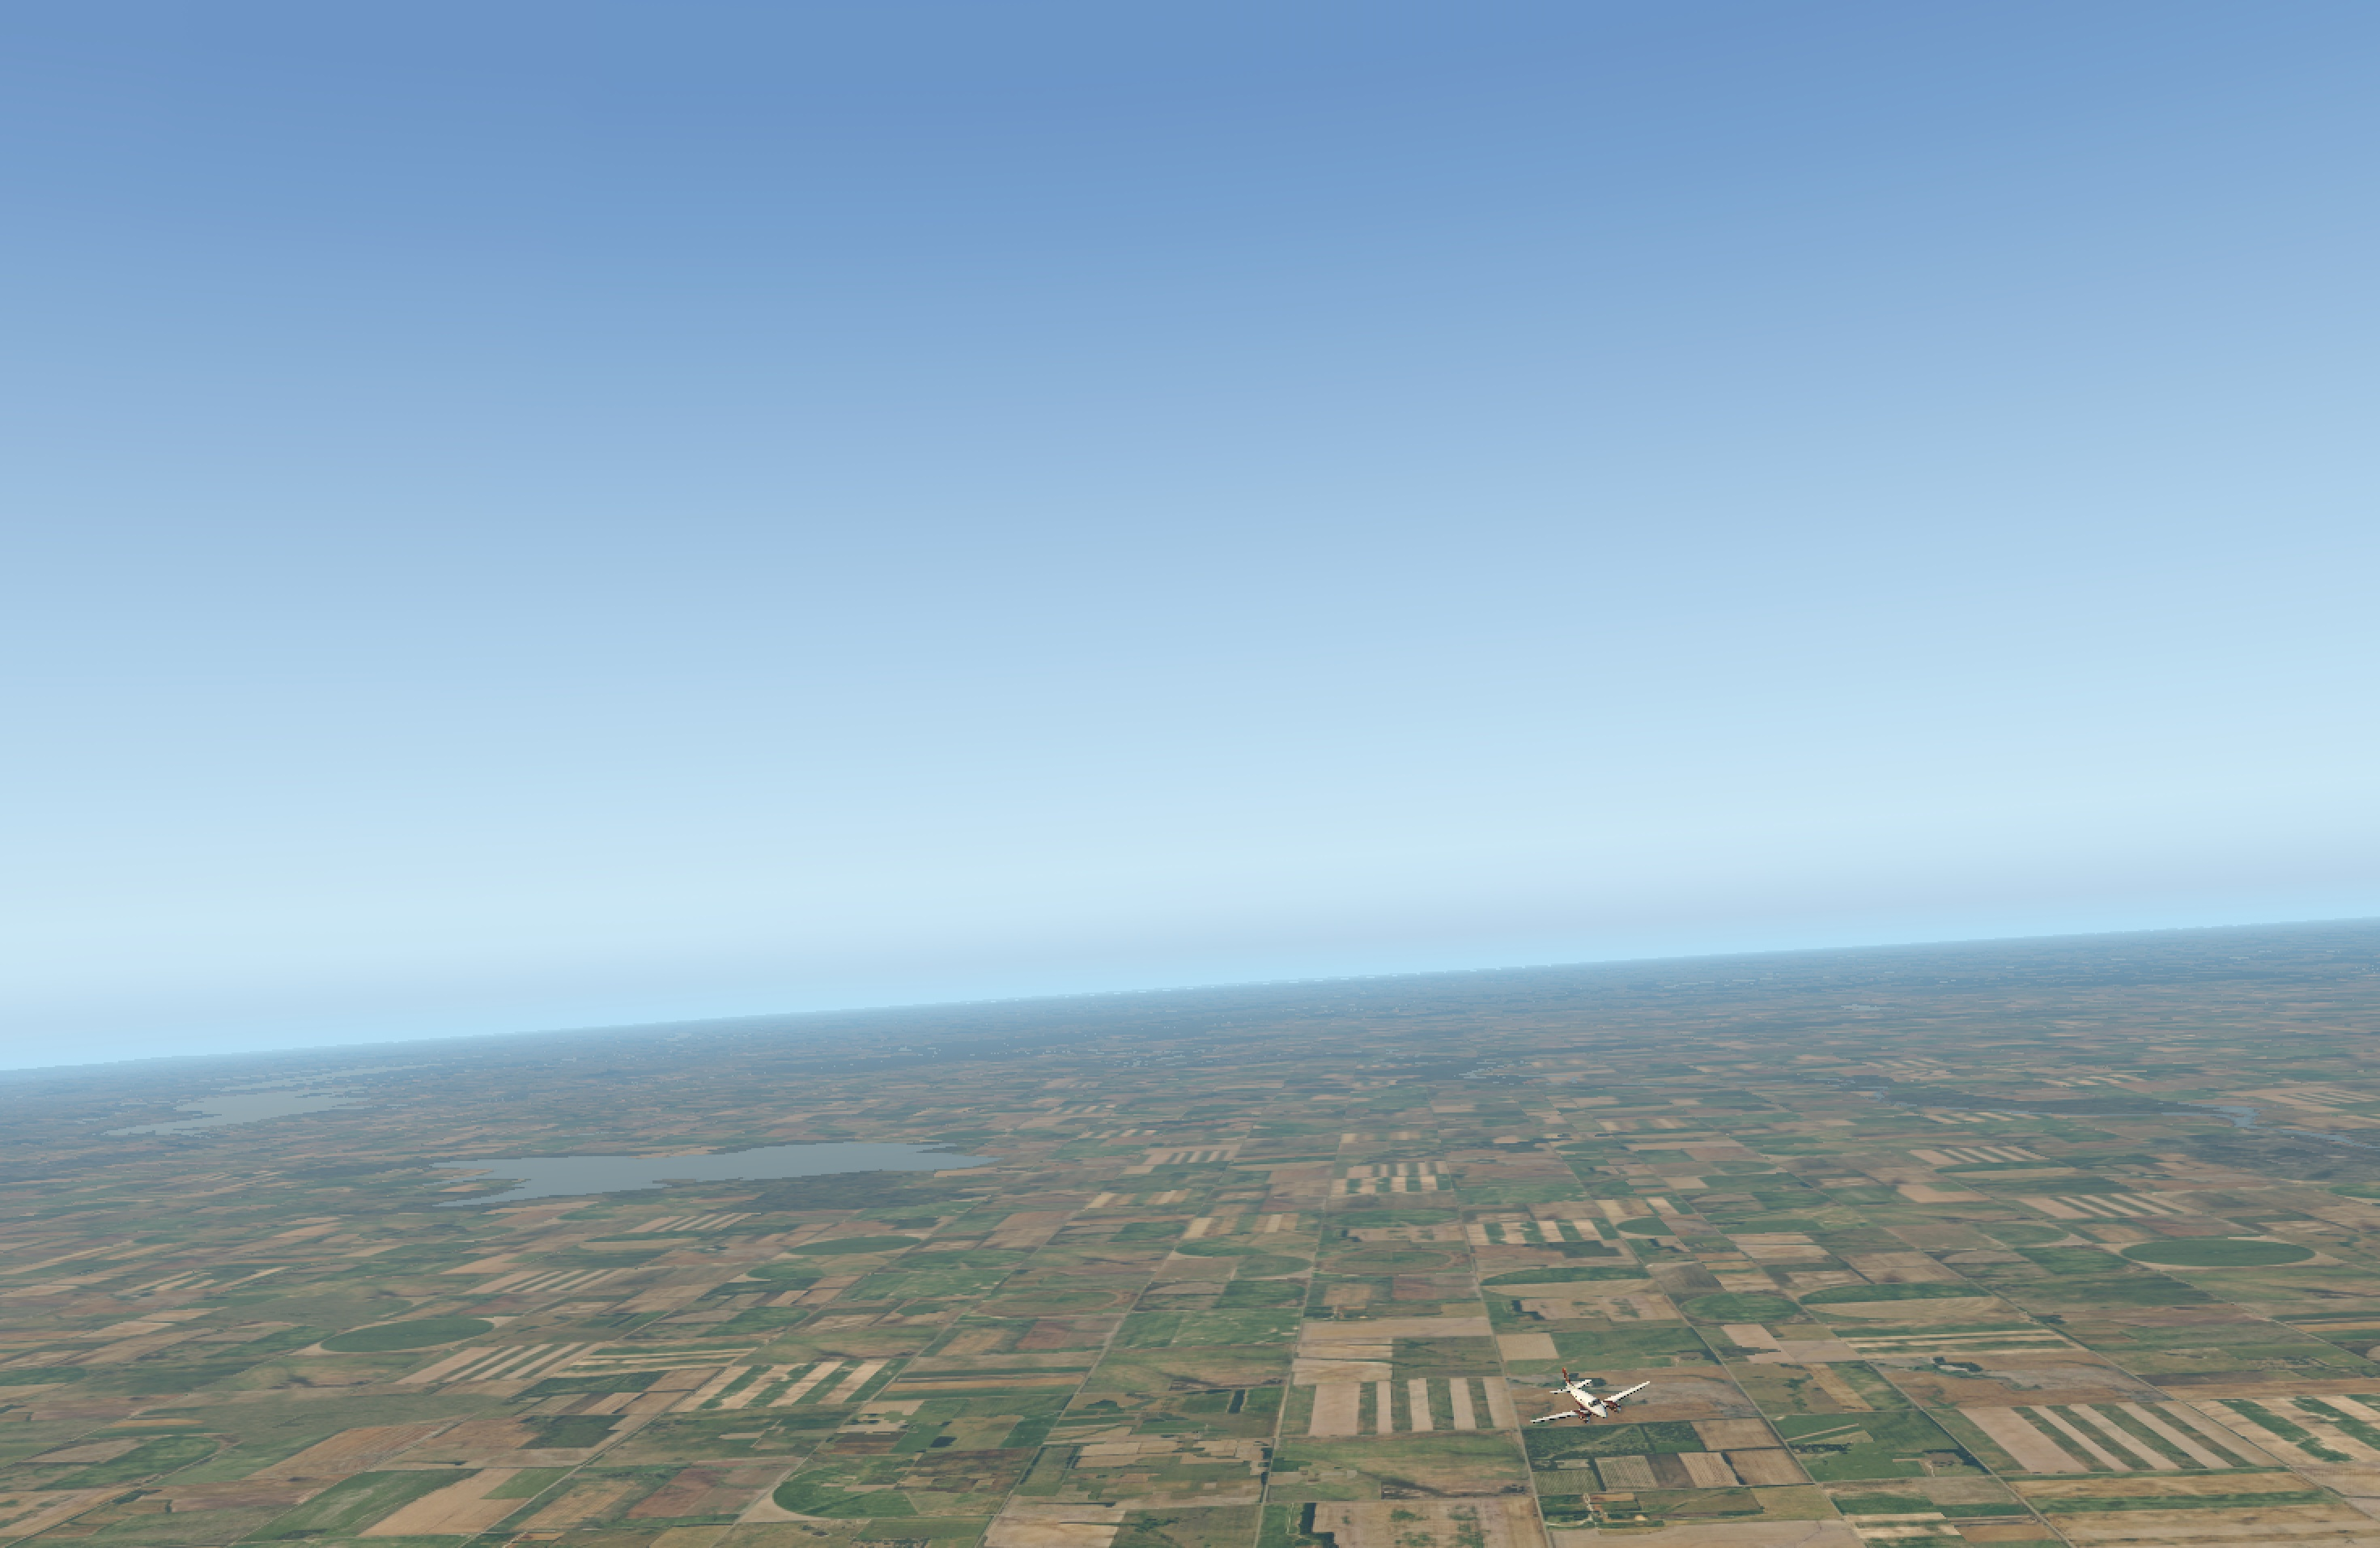aircraft: (1532, 1387, 1658, 1435)
